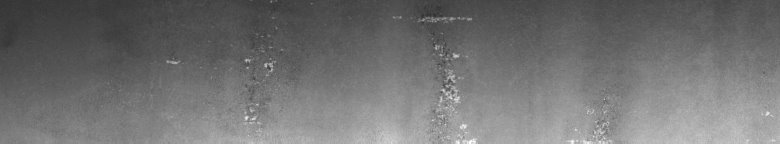hc: (392, 4, 479, 136)
